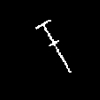double_crochet: (36, 20, 70, 71)
